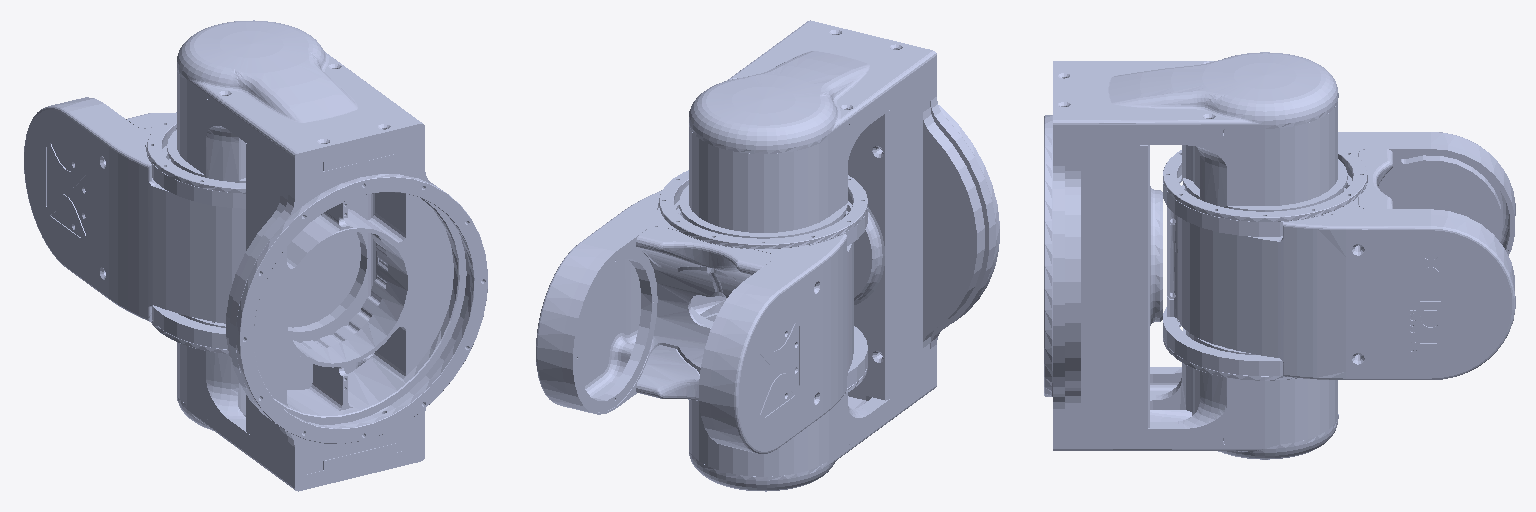
URDF robot description (mk2_torso_description):
<robot
  name="mk2_torso_description">
  <link
    name="torso_base_link">
    <inertial>
      <origin
        xyz="-0.00018403 0.01103 0.00031125"
        rpy="0 0 0" />
      <mass
        value="0.13049" />
      <inertia
        ixx="0.00020587"
        ixy="1.9521E-07"
        ixz="1.2832E-06"
        iyy="0.00049448"
        iyz="-3.1452E-07"
        izz="0.00032049" />
    </inertial>
    <visual>
      <origin
        xyz="0 0 0"
        rpy="0 0 0" />
      <geometry>
        <mesh
          filename="package://mk2_torso_description/meshes/torso_base_link.STL" />
      </geometry>
      <material
        name="">
        <color
          rgba="0.79216 0.81961 0.93333 1" />
      </material>
    </visual>
    <collision>
      <origin
        xyz="0 0 0"
        rpy="0 0 0" />
      <geometry>
        <mesh
          filename="package://mk2_torso_description/meshes/torso_base_link.STL" />
      </geometry>
    </collision>
  </link>
  <link
    name="torso_yaw_link">
    <inertial>
      <origin
        xyz="-1.0664113596062E-08 0.0628988812468705 2.5325061653577E-09"
        rpy="0 0 0" />
      <mass
        value="0.312439405406118" />
      <inertia
        ixx="0.000737785373037655"
        ixy="5.40470742433578E-11"
        ixz="2.42455236931287E-10"
        iyy="0.00155225038783166"
        iyz="-1.80969158770662E-11"
        izz="0.00179835095301137" />
    </inertial>
    <visual>
      <origin
        xyz="0 0 0"
        rpy="0 0 0" />
      <geometry>
        <mesh
          filename="package://mk2_torso_description/meshes/torso_yaw_link.STL" />
      </geometry>
      <material
        name="">
        <color
          rgba="0.792156862745098 0.819607843137255 0.933333333333333 1" />
      </material>
    </visual>
    <collision>
      <origin
        xyz="0 0 0"
        rpy="0 0 0" />
      <geometry>
        <mesh
          filename="package://mk2_torso_description/meshes/torso_yaw_link.STL" />
      </geometry>
    </collision>
  </link>
  <joint
    name="torso_yaw_joint"
    type="continuous">
    <origin
      xyz="0 0.01 0"
      rpy="0 1.5708 0" />
    <parent
      link="torso_base_link" />
    <child
      link="torso_yaw_link" />
    <axis
      xyz="0 1 0" />
  </joint>
  <link
    name="torso_pitch_link">
    <inertial>
      <origin
        xyz="3.71536021858208E-07 0.0385336088285087 -0.00216821570459846"
        rpy="0 0 0" />
      <mass
        value="0.214939253072605" />
      <inertia
        ixx="0.000647224222348535"
        ixy="4.13577050131344E-09"
        ixz="3.35454012482265E-09"
        iyy="0.000481992877291182"
        iyz="-2.12337487574034E-05"
        izz="0.000508203919522507" />
    </inertial>
    <visual>
      <origin
        xyz="0 0 0"
        rpy="0 0 0" />
      <geometry>
        <mesh
          filename="package://mk2_torso_description/meshes/torso_pitch_link.STL" />
      </geometry>
      <material
        name="">
        <color
          rgba="0.792156862745098 0.819607843137255 0.933333333333333 1" />
      </material>
    </visual>
    <collision>
      <origin
        xyz="0 0 0"
        rpy="0 0 0" />
      <geometry>
        <mesh
          filename="package://mk2_torso_description/meshes/torso_pitch_link.STL" />
      </geometry>
    </collision>
  </link>
  <joint
    name="torso_pitch_joint"
    type="continuous">
    <origin
      xyz="0 0.1172 0"
      rpy="-3.6978E-32 -4.1895E-65 -6.8423E-49" />
    <parent
      link="torso_yaw_link" />
    <child
      link="torso_pitch_link" />
    <axis
      xyz="1 0 0" />
  </joint>
  <link
    name="torso_roll_link">
    <inertial>
      <origin
        xyz="6.7524962994372E-08 0.233960353769095 -0.00500672797843049"
        rpy="0 0 0" />
      <mass
        value="0.293335697547894" />
      <inertia
        ixx="0.00578530758836691"
        ixy="-7.31707616744645E-10"
        ixz="-1.75775564567948E-08"
        iyy="0.000677304130480322"
        iyz="-0.000219289414052924"
        izz="0.00606444160061966" />
    </inertial>
    <visual>
      <origin
        xyz="0 0 0"
        rpy="0 0 0" />
      <geometry>
        <mesh
          filename="package://mk2_torso_description/meshes/torso_roll_link.STL" />
      </geometry>
      <material
        name="">
        <color
          rgba="0.792156862745098 0.819607843137255 0.933333333333333 1" />
      </material>
    </visual>
    <collision>
      <origin
        xyz="0 0 0"
        rpy="0 0 0" />
      <geometry>
        <mesh
          filename="package://mk2_torso_description/meshes/torso_roll_link.STL" />
      </geometry>
    </collision>
  </link>
  <joint
    name="torso_roll_joint"
    type="continuous">
    <origin
      xyz="0 0.08 0"
      rpy="-8.8818E-16 6.7033E-64 1.1632E-47" />
    <parent
      link="torso_pitch_link" />
    <child
      link="torso_roll_link" />
    <axis
      xyz="0 0 1" />
  </joint>
</robot>

--- Render facts (derived) ---
Views: 3 orthographic renders of the robot side by side, from view 1: azimuth 30°, elevation 25°; view 2: azimuth 150°, elevation 25°; view 3: azimuth 270°, elevation 25°.
Robot: mk2_torso_description — 4 links, 3 joints (3 continuous); root link torso_base_link; default pose: all joints at 0.
Links seen in each view (by area): view 1: torso_yaw_link, torso_pitch_link; view 2: torso_yaw_link, torso_pitch_link; view 3: torso_yaw_link, torso_pitch_link.
Boxes of the visible links, x1,y1,x2,y2 form: torso_yaw_link: (167, 20, 487, 491); torso_pitch_link: (24, 97, 245, 353); torso_yaw_link: (679, 20, 999, 491); torso_pitch_link: (536, 170, 867, 453); torso_yaw_link: (1044, 52, 1347, 459); torso_pitch_link: (1163, 132, 1515, 380).
Bounding box of the posed robot: 0.1359 × 0.2274 × 0.1925 m (x, y, z).
Meshes: 4 distinct files referenced, 2 mesh visuals loaded (2 binary STL); not drawn: 2 (reference not matched to a file when rendering).